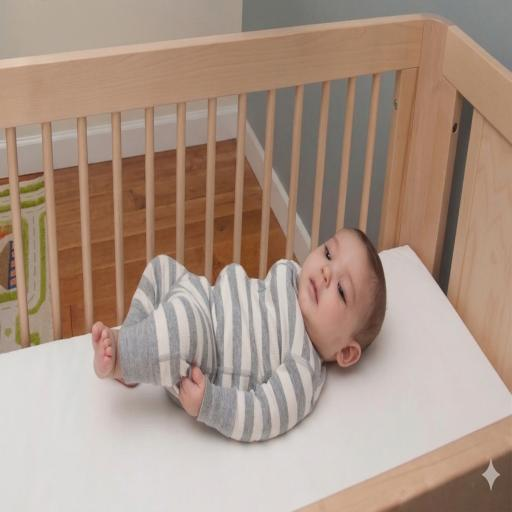baby: (92, 229, 385, 441)
crib: (0, 15, 511, 390)
